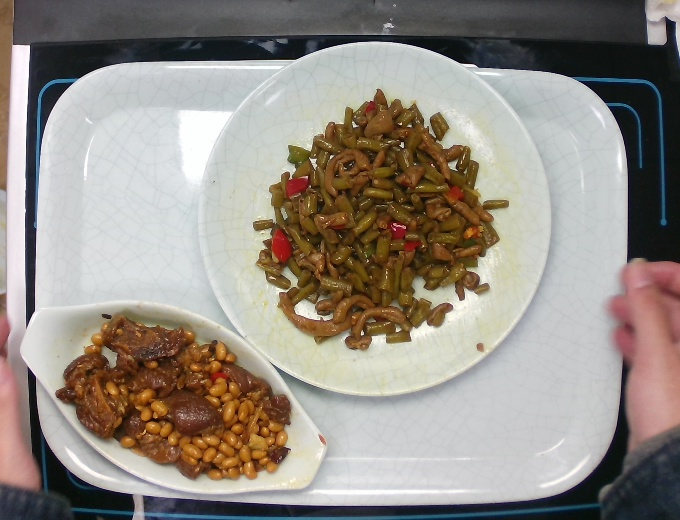JYsf-Da_Yuan_Pan: (196, 29, 559, 403)
JYsf-Yu_Pan: (3, 285, 331, 498)
